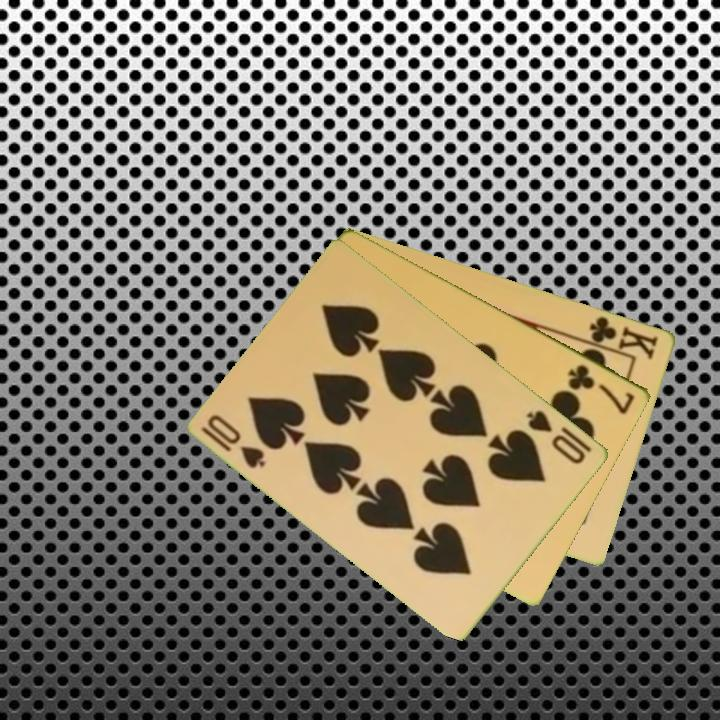10s: (197, 410, 269, 472), (523, 406, 589, 467)
7c: (565, 360, 638, 417)
Kc: (578, 312, 662, 362)
